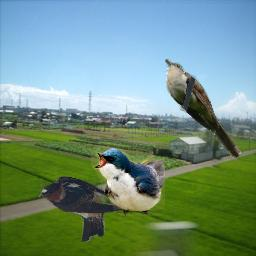Cuckoo: (165, 59, 241, 158)
Swallow: (39, 175, 129, 242), (91, 146, 165, 216)
